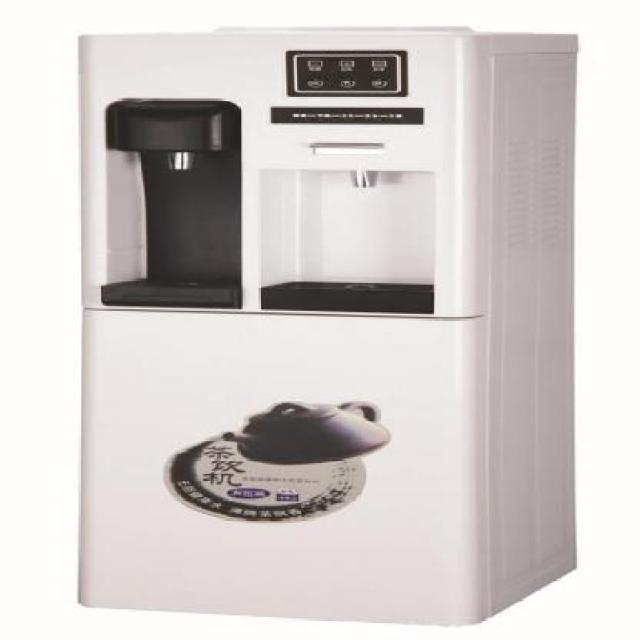cooler: (72, 18, 591, 637)
